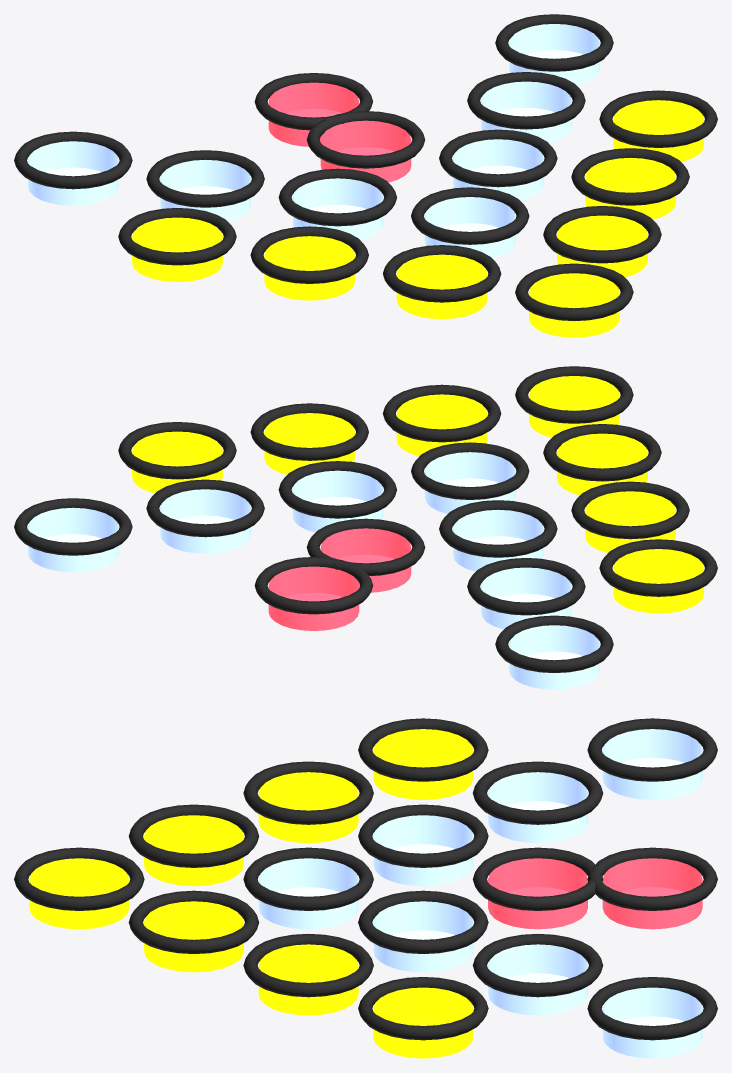
File: holes.glb
3 renders of one model, top to bottom at view 1: azimuth 30°, elevation 25°; view 2: azimuth 150°, elevation 25°; view 3: azimuth 270°, elevation 25°, orthographic. The views are drawn at different scales.
Visible parts, largest first — view 1: Hole_Yellow_05, Hole_Yellow_07, Hole_Blue_01, Hole_Yellow_03, Hole_Yellow_01, Hole_Red_02, Hole_Blue_05, Hole_Blue_07, Hole_Yellow_02, Hole_Blue_02, Hole_Blue_06, Hole_Yellow_06 (+20 smaller); view 2: Hole_Blue_04, Hole_Red_01, Hole_Yellow_01, Hole_Blue_01, Hole_Blue_02, Hole_Blue_07, Hole_Blue_06, Hole_Yellow_06, Hole_Yellow_07, Hole_Blue_03, Hole_Yellow_03, Hole_Yellow_04 (+20 smaller); view 3: Hole_Blue_06, Hole_Yellow_07, Hole_Blue_07, Hole_Red_01, Hole_Yellow_01, Hole_Yellow_04, Hole_Blue_01, Hole_Yellow_02, Hole_Blue_02, Hole_Blue_05, Hole_Yellow_03, Hole_Yellow_05 (+20 smaller).
Boxes of the visible parts, left/top/right/bottom form: Hole_Yellow_05: left=396, top=254, right=487, bottom=319; Hole_Yellow_07: left=529, top=273, right=619, bottom=337; Hole_Blue_01: left=28, top=141, right=118, bottom=205; Hole_Yellow_03: left=264, top=236, right=354, bottom=300; Hole_Yellow_01: left=132, top=217, right=222, bottom=281; Hole_Red_02: left=320, top=120, right=411, bottom=182; Hole_Blue_05: left=292, top=178, right=383, bottom=240; Hole_Blue_07: left=424, top=197, right=515, bottom=258; Hole_Yellow_02: left=613, top=100, right=703, bottom=161; Hole_Blue_02: left=509, top=24, right=599, bottom=85; Hole_Blue_06: left=453, top=139, right=543, bottom=200; Hole_Yellow_06: left=557, top=215, right=647, bottom=277; Hole_Blue_04: left=160, top=489, right=250, bottom=553; Hole_Red_01: left=268, top=566, right=359, bottom=630; Hole_Yellow_01: left=613, top=549, right=703, bottom=613; Hole_Blue_01: left=509, top=625, right=599, bottom=689; Hole_Blue_02: left=28, top=507, right=118, bottom=572; Hole_Blue_07: left=424, top=452, right=515, bottom=513; Hole_Blue_06: left=292, top=470, right=383, bottom=532; Hole_Yellow_06: left=396, top=394, right=487, bottom=456; Hole_Yellow_07: left=529, top=376, right=619, bottom=437; Hole_Blue_03: left=481, top=567, right=571, bottom=629; Hole_Yellow_03: left=585, top=491, right=675, bottom=552; Hole_Yellow_04: left=264, top=413, right=354, bottom=474; Hole_Blue_06: left=373, top=901, right=473, bottom=972; Hole_Yellow_07: left=29, top=858, right=129, bottom=929; Hole_Blue_07: left=258, top=858, right=358, bottom=929; Hole_Red_01: left=602, top=858, right=702, bottom=929; Hole_Yellow_01: left=373, top=729, right=473, bottom=799; Hole_Yellow_04: left=258, top=944, right=358, bottom=1015; Hole_Blue_01: left=602, top=729, right=702, bottom=799; Hole_Yellow_02: left=373, top=987, right=473, bottom=1058; Hole_Blue_02: left=602, top=987, right=702, bottom=1058; Hole_Blue_05: left=373, top=815, right=473, bottom=886; Hole_Yellow_03: left=258, top=772, right=358, bottom=843; Hole_Yellow_05: left=144, top=815, right=243, bottom=886.
Bounding box in the file's own units: 2.33 × 0.1195 × 2.21.
